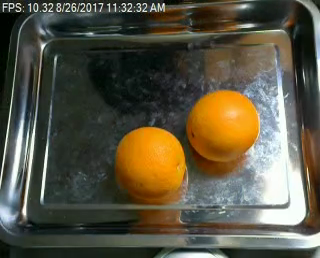Orange: (115, 126, 187, 201), (188, 90, 262, 162)
